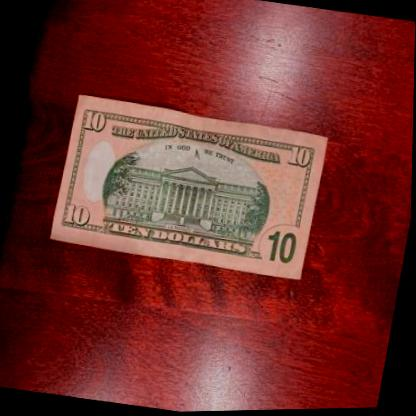ten-back: (48, 88, 331, 287)
